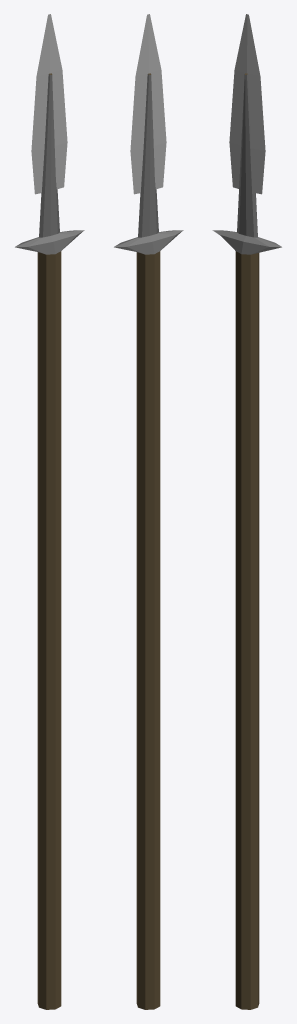
File: spear.fbx
3 renders of one model, left to right at view 1: azimuth 30°, elevation 25°; view 2: azimuth 210°, elevation 25°; view 3: azimuth 330°, elevation 25°, orthographic.
Parts seen in each view (by area): view 1: Cylinder.004; view 2: Cylinder.004; view 3: Cylinder.004.
Boxes of the visible parts, box(x1,y1,x2,y2) form: Cylinder.004: box(15, 14, 84, 1009); Cylinder.004: box(114, 14, 183, 1009); Cylinder.004: box(212, 14, 281, 1009).
Size of the model in its own units: 0.15 by 2.02 by 0.045.
